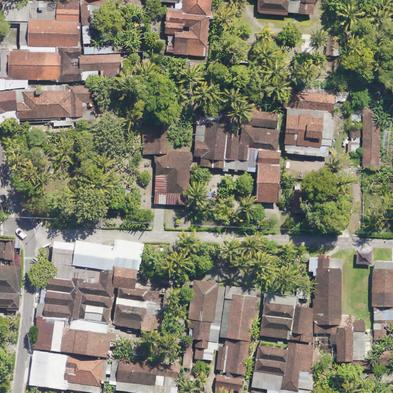building: (44, 269, 114, 323), (3, 0, 81, 47), (29, 350, 105, 387), (188, 280, 219, 360), (58, 47, 121, 82), (313, 258, 342, 333), (164, 11, 209, 56), (51, 240, 116, 270), (116, 359, 180, 385), (284, 108, 325, 148), (154, 151, 193, 193), (281, 342, 313, 392), (331, 328, 370, 369), (16, 90, 71, 119), (8, 51, 61, 80), (60, 328, 111, 358), (372, 269, 393, 340), (194, 124, 226, 169), (238, 125, 279, 160), (227, 294, 257, 341), (113, 304, 163, 332), (257, 151, 281, 203), (216, 341, 250, 375), (33, 316, 65, 352), (283, 90, 335, 111), (362, 110, 380, 170), (263, 292, 297, 318), (290, 306, 313, 343), (68, 85, 94, 117), (260, 316, 292, 339), (142, 127, 167, 155), (242, 110, 279, 128), (81, 0, 105, 25), (0, 265, 21, 293), (117, 288, 159, 302), (113, 267, 137, 290), (254, 359, 286, 376), (215, 374, 245, 391), (257, 346, 287, 362), (182, 0, 212, 15), (257, 0, 289, 12), (0, 91, 17, 113), (226, 134, 240, 159), (0, 294, 19, 311), (0, 241, 15, 260), (298, 0, 314, 14), (357, 250, 371, 264), (390, 183, 393, 192), (392, 175, 393, 181), (178, 0, 179, 0)
